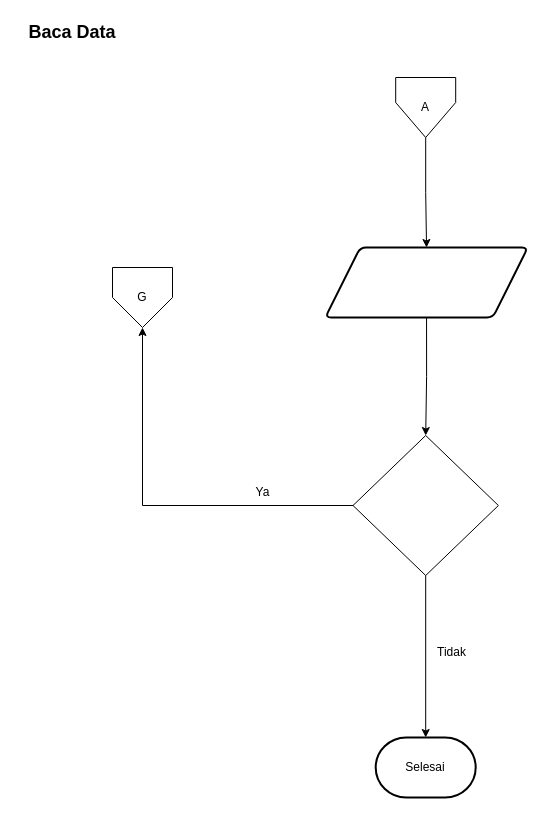
This 546x815 diagram has some shape labels left out. The centre of each missing label's shape, as x and y in pixels:
Lanjut ke menu utama atau keluar?: the point at 425,505
Menampilkan data karyawan: the point at 426,282
